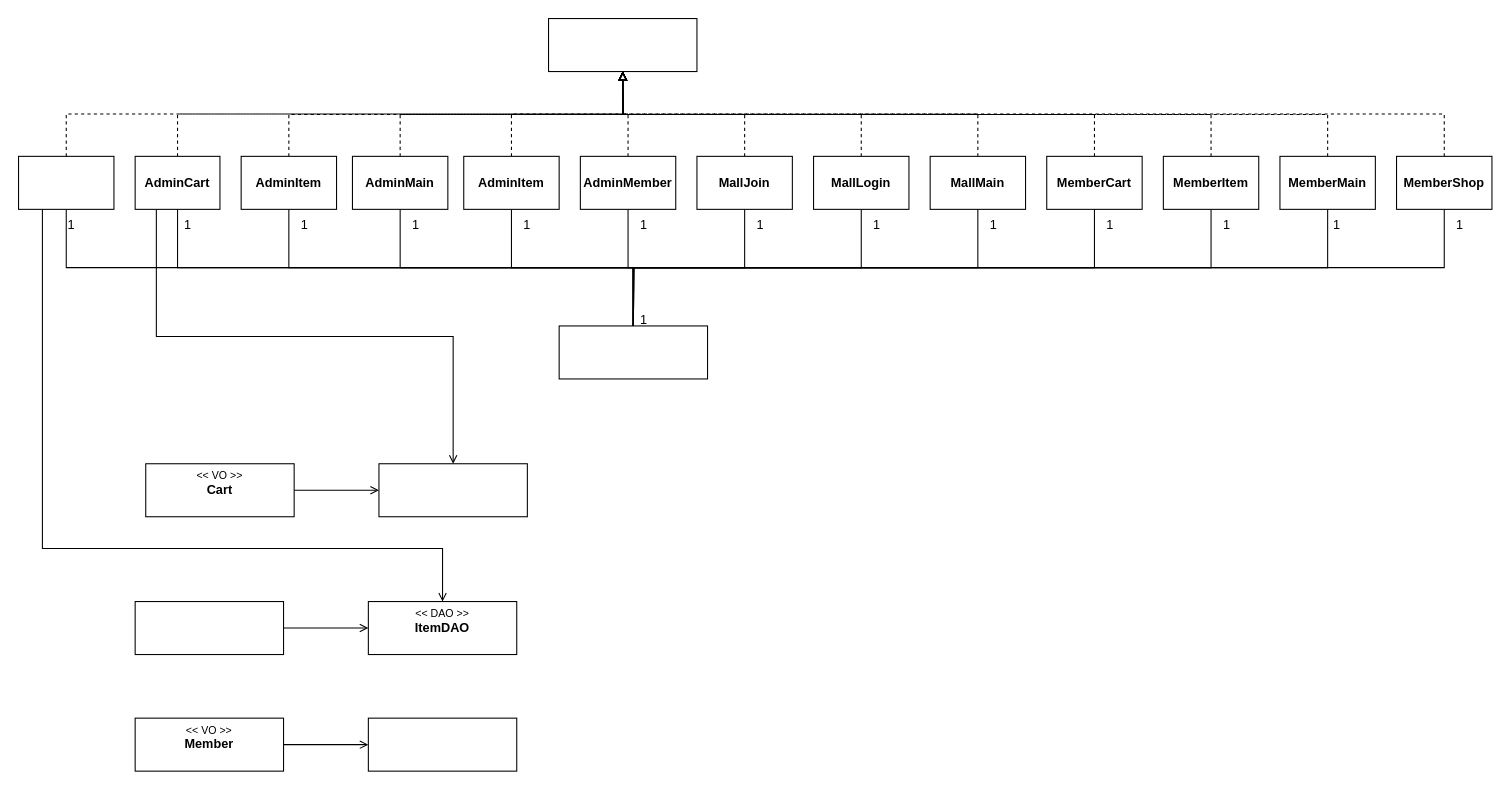
The diagram is 1510 pixels wide and 790 high, and some of its shapes have lost their labels. The box of each missing label's shape, as (x1, y1, x2, y2) in pixels:
<< controller >> MallController: (558, 325, 708, 379)
<< DAO >> CartDAO: (378, 463, 527, 517)
<< DAO >> MemberDAO: (367, 717, 517, 771)
<< interface >> MenuCommand: (547, 17, 697, 72)
<< VO >> Item: (134, 600, 284, 655)
AdminAddItem: (17, 155, 114, 209)
